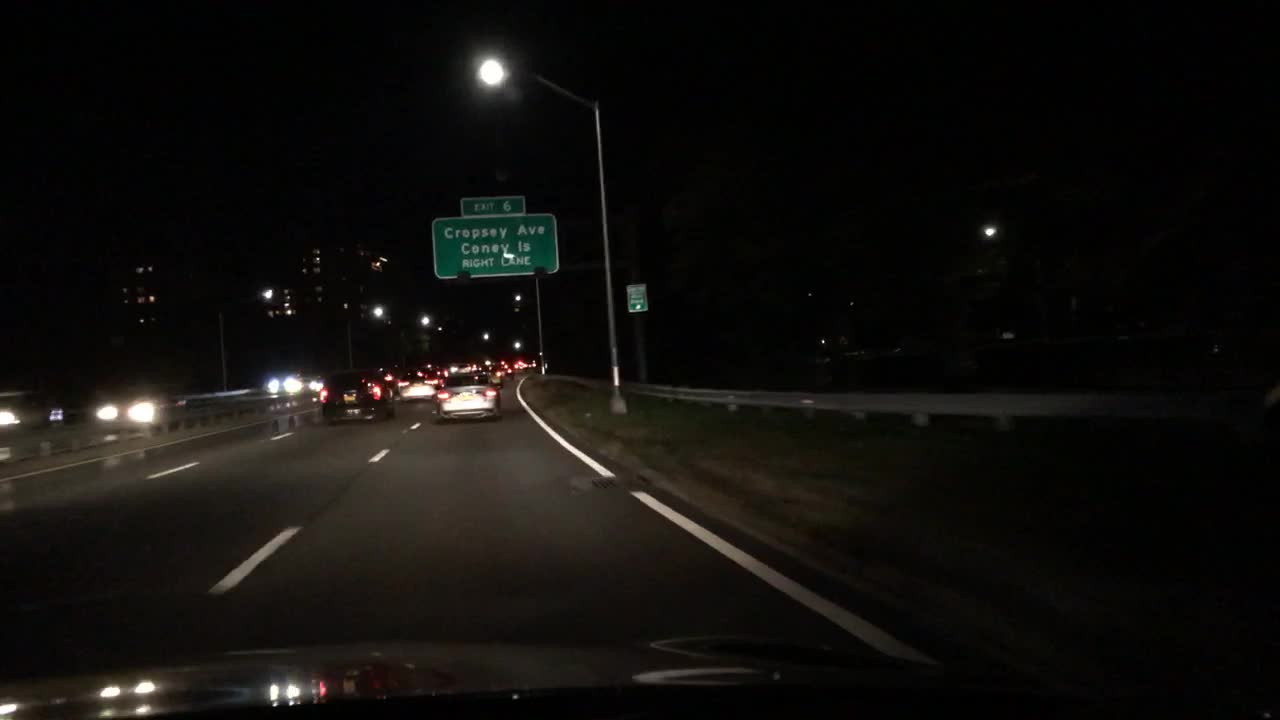car: (317, 368, 397, 426), (436, 372, 504, 424), (0, 387, 61, 432), (88, 395, 158, 420), (392, 369, 440, 400), (264, 373, 308, 393), (486, 369, 505, 386), (447, 361, 470, 374), (308, 372, 322, 390), (497, 366, 515, 377), (513, 357, 526, 370), (380, 370, 394, 382)
traffic sign: (432, 214, 557, 276), (460, 195, 525, 214), (629, 280, 647, 312)
